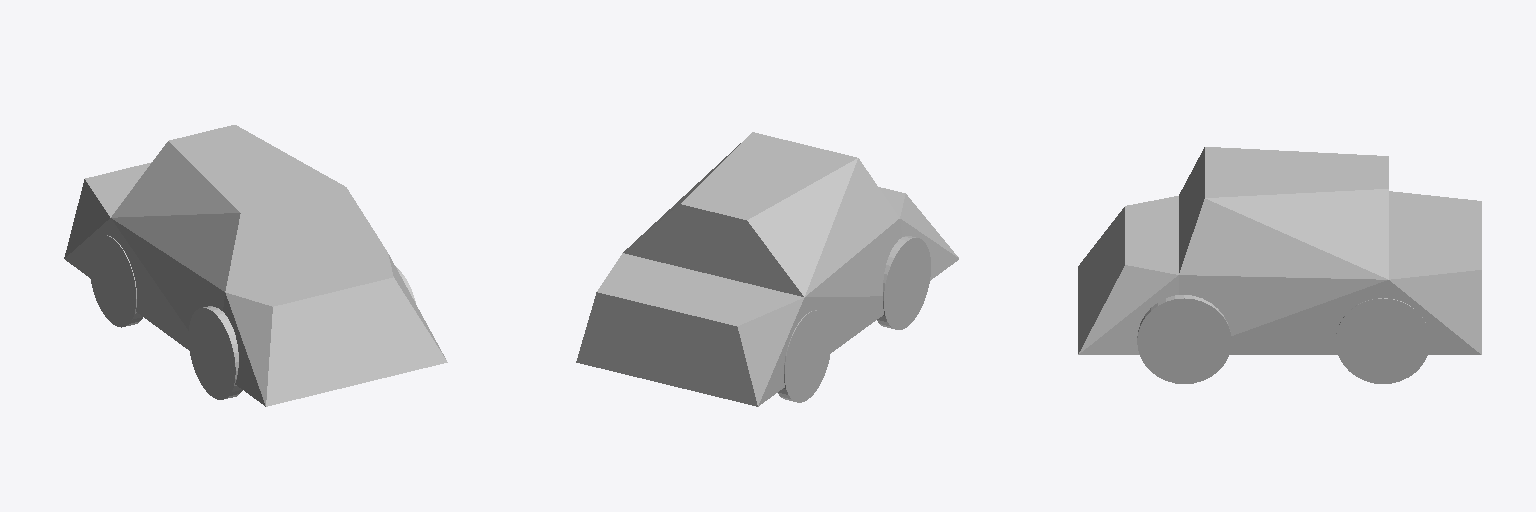
Rendered from car.obj.
The picture shows the model from 3 angles: view 1: azimuth 30°, elevation 25°; view 2: azimuth 150°, elevation 25°; view 3: azimuth 270°, elevation 25°; orthographic projection.
Visible parts, largest first — view 1: Cube; view 2: Cube; view 3: Cube.
Part boxes in pixels (left/top/right/bottom): Cube: left=64, top=125, right=447, bottom=406; Cube: left=576, top=132, right=958, bottom=406; Cube: left=1078, top=147, right=1481, bottom=383.
Bounding box in the file's own units: 2.13 × 1.86 × 4.07.